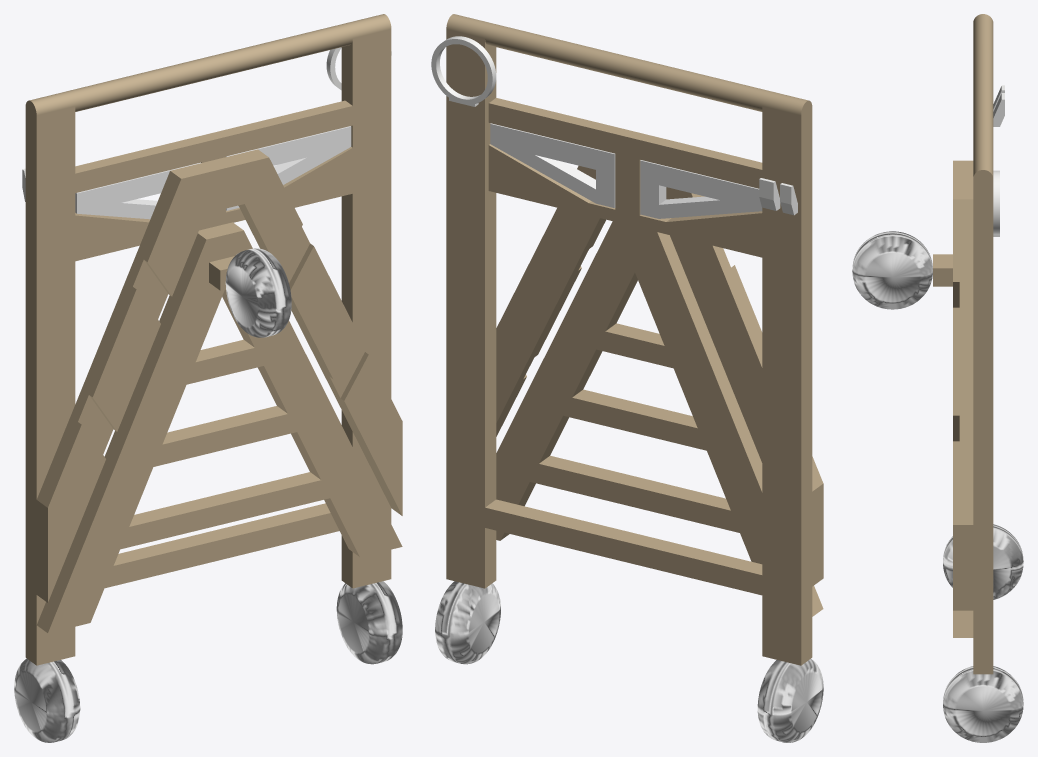
File: cartFold.glb
3 renders of one model, left to right at view 1: azimuth 30°, elevation 25°; view 2: azimuth 150°, elevation 25°; view 3: azimuth 270°, elevation 25°, orthographic. The views are drawn at different scales.
Parts seen in each view (by area): view 1: Body1.001, Body1, Body1.004, Body1.003, Body1.002, Body1.009, Body1.008; view 2: Body1.001, Body1, Body1.008, Body1.009, Body1.003, Body1.002, Body1.007; view 3: Body1.001, Body1, Body1.004, Body1.002, Body1.003, Body1.007.
Part boxes in pixels (bbox=[...]): Body1.001: bbox=[25, 14, 402, 665]; Body1: bbox=[36, 149, 402, 602]; Body1.004: bbox=[225, 248, 291, 337]; Body1.003: bbox=[14, 658, 80, 742]; Body1.002: bbox=[336, 581, 402, 664]; Body1.009: bbox=[75, 162, 200, 219]; Body1.008: bbox=[226, 126, 351, 210]; Body1.001: bbox=[446, 14, 823, 665]; Body1: bbox=[496, 166, 823, 586]; Body1.008: bbox=[490, 123, 615, 207]; Body1.009: bbox=[640, 160, 762, 218]; Body1.003: bbox=[757, 659, 823, 742]; Body1.002: bbox=[435, 581, 500, 664]; Body1.007: bbox=[431, 36, 496, 106]; Body1.001: bbox=[933, 14, 993, 674]; Body1: bbox=[953, 160, 973, 610]; Body1.004: bbox=[852, 231, 932, 309]; Body1.002: bbox=[943, 666, 1023, 742]; Body1.003: bbox=[943, 524, 1023, 599]; Body1.007: bbox=[993, 170, 999, 236].
Bounding box in the file's own units: 56.75 × 95 × 25.5.
